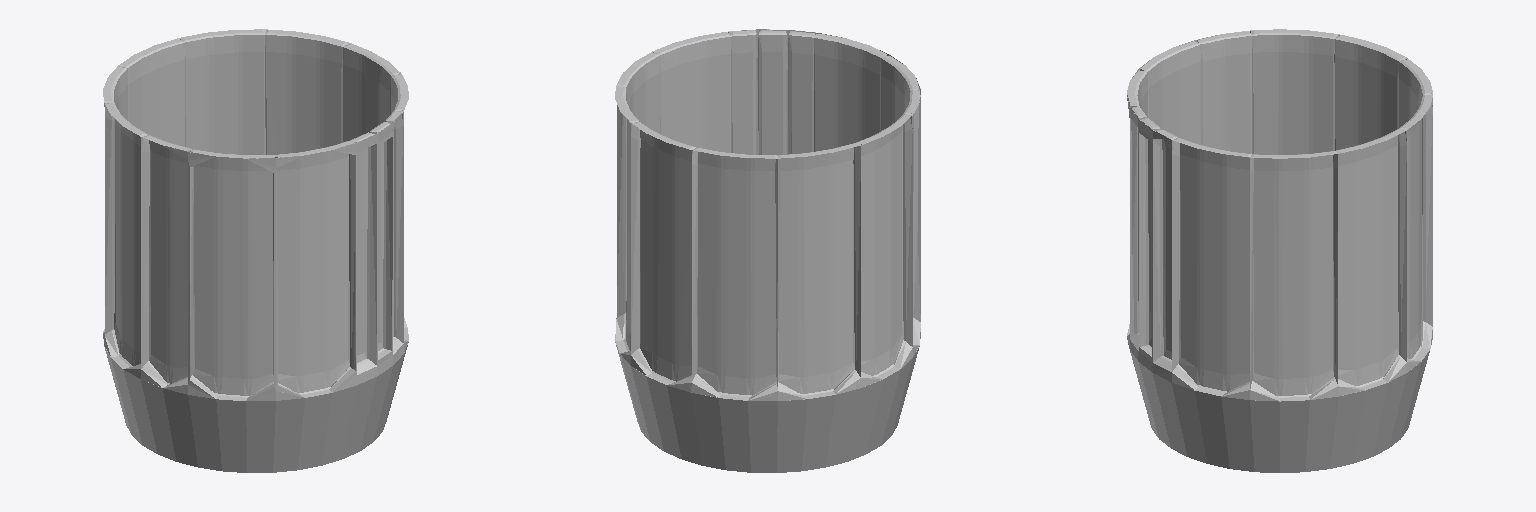
Rendered from bin.obj.
3 renders of one model, left to right at view 1: azimuth 30°, elevation 25°; view 2: azimuth 150°, elevation 25°; view 3: azimuth 270°, elevation 25°, orthographic.
Parts seen in each view (by area): view 1: Circle; view 2: Circle; view 3: Circle.
Part boxes in pixels (bbox=[...]): Circle: bbox=[103, 29, 408, 472]; Circle: bbox=[615, 29, 920, 472]; Circle: bbox=[1127, 29, 1432, 472].
Size of the model in its own units: 1.28 by 1.49 by 1.28.